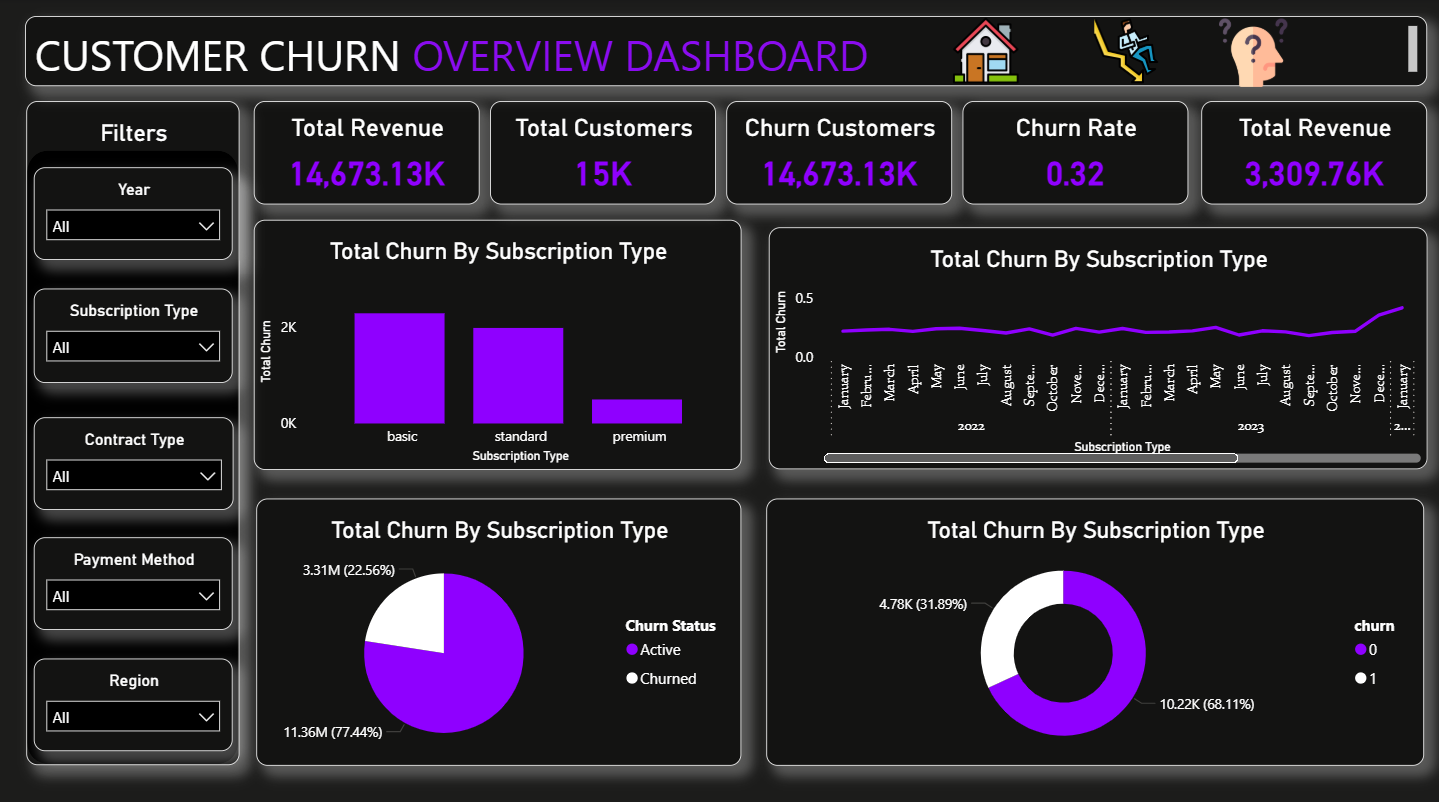

The dashboard page shown, as its layout file describes it:
{"tool":"powerbi","page":{"name":"over view","canvas":[1280,720],"ordinal":0},"visuals":[{"type":"card","title":"Total Revenue","fields":{"Values":["churn churndata.total revenue"]},"box":[225.6,93,201.2,91.9],"z":0},{"type":"columnChart","title":"Total Churn By Subscription Type","fields":{"Category":["churn churndata.subscription_type"],"Y":["churn churndata.total churn"]},"box":[225.6,198.8,433.7,222.1],"z":1000},{"type":"slicer","title":"Subscription Type","fields":{"Values":["churn churndata.subscription_type"]},"box":[53.6,157.4,159.7,83.7],"z":2000},{"type":"textbox","box":[22.1,17.4,1246.5,62.8],"z":3000,"group":"g1"},{"type":"shape","title":"Filters","box":[23.3,93,189.5,590.7],"z":4000},{"type":"slicer","title":"Subscription Type","fields":{"Values":["churn churndata.subscription_type"]},"box":[30.2,260.5,176.7,83.7],"z":5000},{"type":"slicer","title":"Year","fields":{"Values":["churn churndata.YEAR"]},"box":[30.2,152.3,176.7,82.6],"z":6000},{"type":"slicer","title":"Contract Type","fields":{"Values":["churn churndata.contract_type"]},"box":[30.2,374.4,177.9,82.6],"z":7000},{"type":"slicer","title":"Payment Method","fields":{"Values":["churn churndata.payment_method"]},"box":[30.2,481.4,176.7,82.6],"z":8000},{"type":"slicer","title":"Region","fields":{"Values":["churn churndata.region"]},"box":[30.2,588.4,176.7,82.6],"z":9000},{"type":"card","title":"Total Customers","fields":{"Values":["churn churndata.total customers"]},"box":[436,93,201.2,91.9],"z":10000},{"type":"card","title":"Churn Customers","fields":{"Values":["churn churndata.total revenue"]},"box":[645.4,93,201.2,91.9],"z":11000},{"type":"card","title":"Churn Rate","fields":{"Values":["churn churndata.churn rate"]},"box":[855.8,93,201.2,91.9],"z":12000},{"type":"card","title":"Total Revenue","fields":{"Values":["churn churndata.loss revenue"]},"box":[1067.4,93,201.2,91.9],"z":13000},{"type":"lineChart","title":"Total Churn By Subscription Type","fields":{"Y":["churn churndata.churn rate"],"Category":["churn churndata.signup_date.Variation.Date Hierarchy.Year","churn churndata.signup_date.Variation.Date Hierarchy.Month"]},"box":[683.4,205.8,585.9,215.4],"z":14000},{"type":"pieChart","title":"Total Churn By Subscription Type","fields":{"Category":["churn churndata.Churn Status"],"Y":["churn churndata.total revenue"]},"box":[227.9,446.5,431.4,237.2],"z":15000},{"type":"donutChart","title":"Total Churn By Subscription Type","fields":{"Category":["churn churndata.churn"],"Y":["CountNonNull(churn churndata.customer_id)"]},"box":[681.4,446.5,584.9,237.2],"z":16000},{"type":"image","box":[836.7,18.8,78.9,58.9],"z":17000,"group":"g1"},{"type":"image","box":[956.7,20,87.8,57.8],"z":18000,"group":"g1"},{"type":"image","box":[1075.6,20,76.7,61.1],"z":19000,"group":"g1"},{"type":"group","id":"g1","title":"Group 1","box":[22.1,17.4,1246.5,63.7],"z":19001}]}

Visuals, with their boxes in screenshot pixels (x1, y1, x2, y2), scaled from the page's 1280x720 canvas onto the 1439x802 screenshot:
"Total Revenue" card: <box>254,104,480,206</box>
"Total Churn By Subscription Type" columnChart: <box>254,221,741,469</box>
"Subscription Type" slicer: <box>60,175,240,269</box>
textbox: <box>25,19,1426,89</box>
"Filters" shape: <box>26,104,239,762</box>
"Subscription Type" slicer: <box>34,290,233,383</box>
"Year" slicer: <box>34,170,233,262</box>
"Contract Type" slicer: <box>34,417,234,509</box>
"Payment Method" slicer: <box>34,536,233,628</box>
"Region" slicer: <box>34,655,233,747</box>
"Total Customers" card: <box>490,104,716,206</box>
"Churn Customers" card: <box>726,104,952,206</box>
"Churn Rate" card: <box>962,104,1188,206</box>
"Total Revenue" card: <box>1200,104,1426,206</box>
"Total Churn By Subscription Type" lineChart: <box>768,229,1427,469</box>
"Total Churn By Subscription Type" pieChart: <box>256,497,741,762</box>
"Total Churn By Subscription Type" donutChart: <box>766,497,1424,762</box>
image: <box>941,21,1029,87</box>
image: <box>1076,22,1174,87</box>
image: <box>1209,22,1295,90</box>
"Group 1" group: <box>25,19,1426,90</box>
